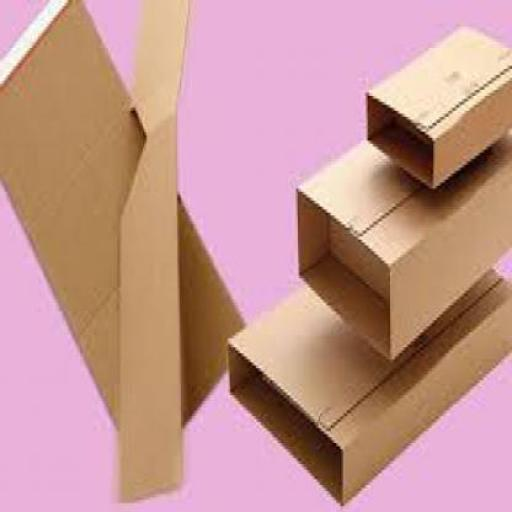cardboard: (2, 0, 250, 443), (230, 264, 511, 510), (298, 126, 511, 360), (117, 0, 189, 501), (367, 21, 511, 188)
